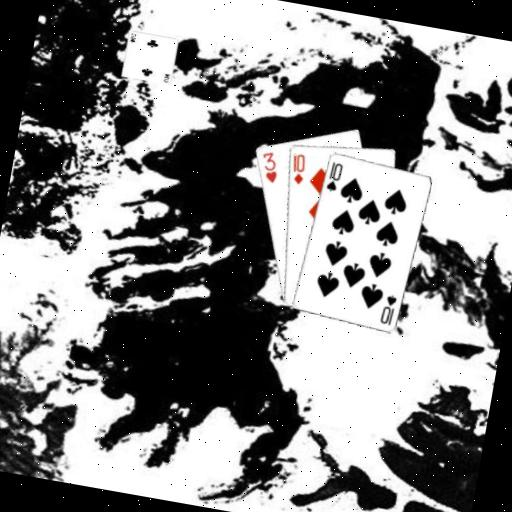10D: (285, 149, 309, 186)
10S: (376, 289, 399, 326), (322, 158, 345, 194)
3H: (254, 146, 282, 184)
